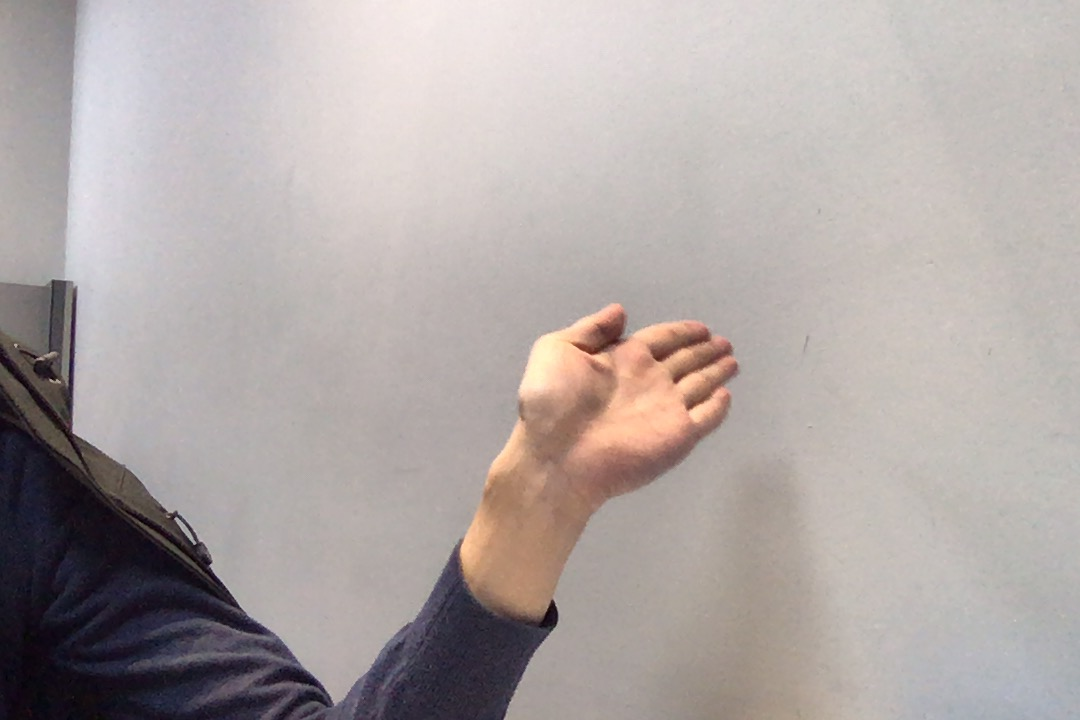palmhand: (501, 289, 755, 502)
